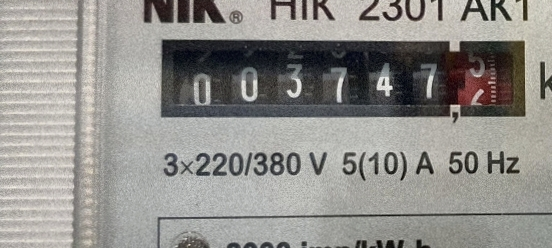0: (190, 71, 212, 106), (238, 64, 258, 102)
3: (284, 62, 303, 99)
4: (373, 59, 394, 99)
5: (466, 50, 486, 78)
6: (467, 85, 486, 106)
7: (416, 59, 439, 100), (328, 64, 348, 104)
screen: (150, 25, 540, 135)
